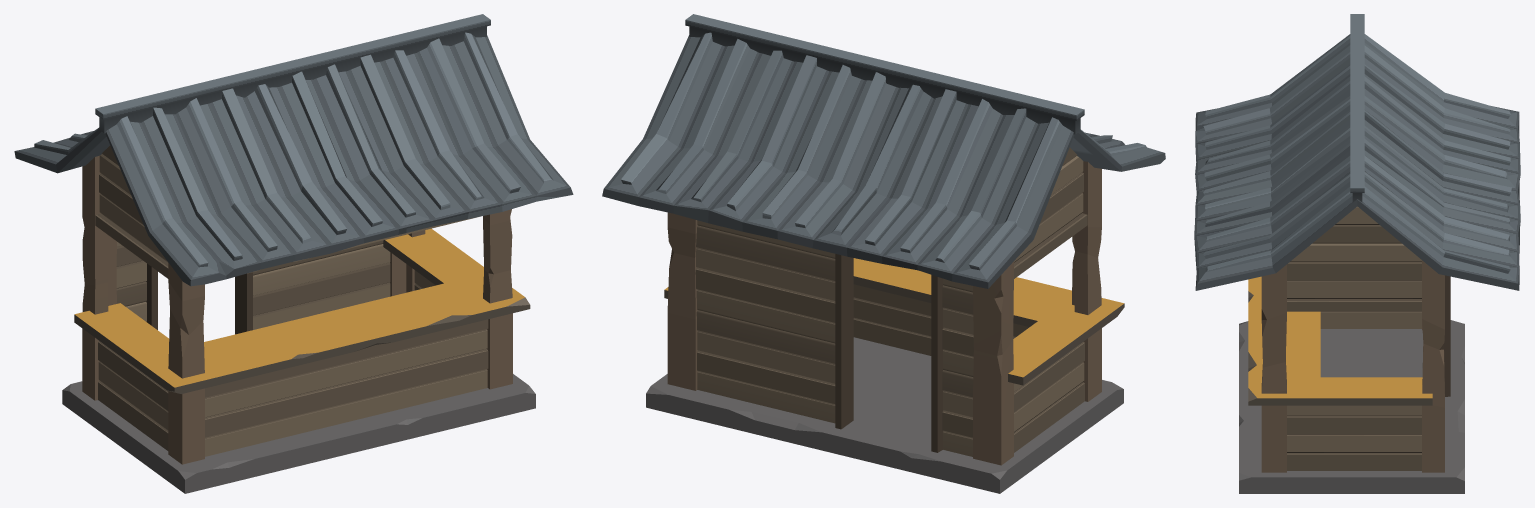
File: SM_Bld_Beach_Shop_03.glb
The picture shows the model from 3 angles, left to right: view 1: azimuth 30°, elevation 25°; view 2: azimuth 150°, elevation 25°; view 3: azimuth 270°, elevation 25°; orthographic projection. The views are drawn at different scales.
Parts seen in each view (by area): view 1: SM_Bld_Beach_Shop_03; view 2: SM_Bld_Beach_Shop_03; view 3: SM_Bld_Beach_Shop_03.
Boxes of the visible parts, x1,y1,x2,y2 form: SM_Bld_Beach_Shop_03: (14,14,573,493); SM_Bld_Beach_Shop_03: (602,14,1165,493); SM_Bld_Beach_Shop_03: (1194,14,1520,493).
Bounding box in the file's own units: 4.36 × 3.67 × 3.47.
1 material, 1 textured.
